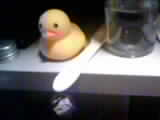duck: (32, 11, 69, 50)
